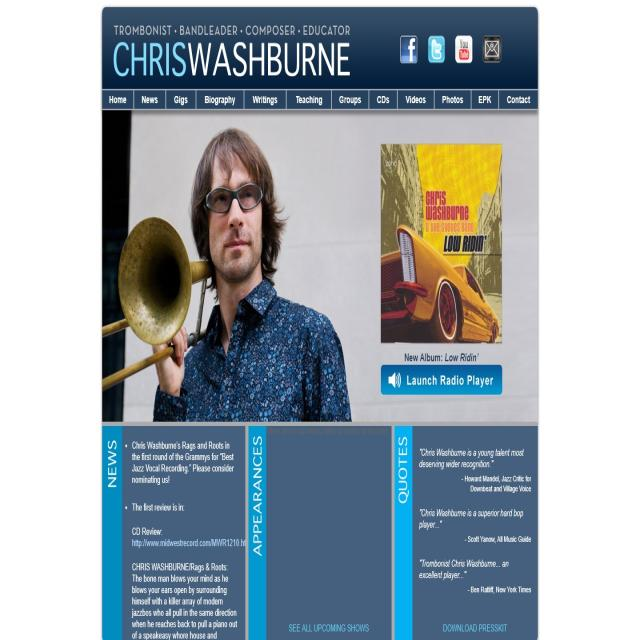button: (382, 363, 503, 397), (286, 88, 330, 109), (244, 90, 285, 112), (434, 88, 471, 111), (397, 88, 433, 110), (500, 90, 538, 110), (196, 94, 243, 108), (332, 90, 368, 108), (102, 88, 132, 109), (368, 88, 397, 109), (470, 89, 499, 109), (133, 90, 164, 108), (400, 36, 418, 64), (456, 35, 472, 64), (166, 92, 195, 108), (429, 34, 444, 64), (484, 36, 501, 61)
heading: (113, 36, 353, 82), (250, 432, 264, 564), (394, 434, 412, 511), (104, 438, 119, 494)
image: (102, 111, 538, 424), (380, 141, 502, 344), (428, 35, 444, 64), (401, 34, 416, 64), (457, 36, 471, 66), (485, 41, 498, 57)
link: (130, 535, 247, 551), (287, 622, 371, 636), (443, 623, 509, 635)
text: (130, 559, 241, 640), (130, 439, 238, 485), (111, 20, 353, 38), (418, 446, 526, 470), (418, 506, 526, 530), (416, 555, 512, 580), (403, 370, 496, 390), (462, 474, 534, 496), (468, 582, 536, 598), (403, 351, 481, 364), (464, 531, 536, 545), (131, 500, 186, 512), (202, 94, 240, 106), (251, 94, 281, 108), (337, 92, 364, 107), (132, 523, 163, 536), (293, 94, 324, 107), (505, 92, 533, 106), (439, 92, 466, 106), (402, 94, 429, 107), (106, 92, 129, 107), (374, 92, 393, 106), (476, 93, 494, 106), (172, 94, 191, 106), (140, 95, 160, 106)
